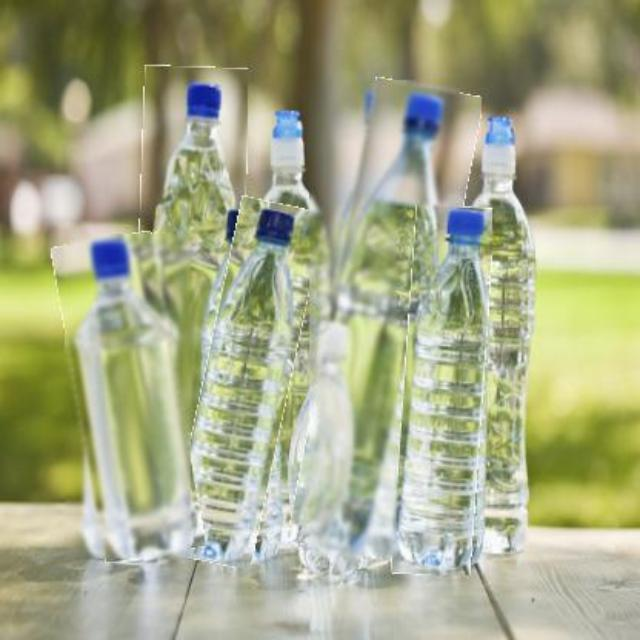Botella de plastico: (405, 119, 537, 562), (189, 166, 318, 562), (393, 202, 526, 577)
